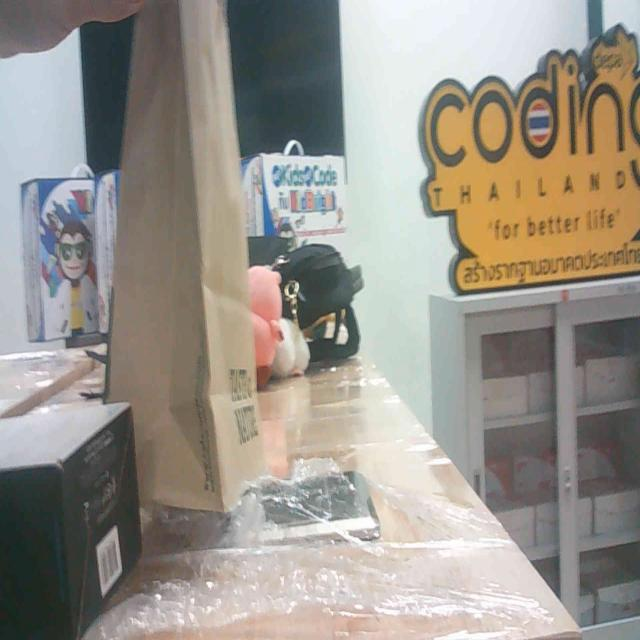bag: (107, 24, 249, 530)
